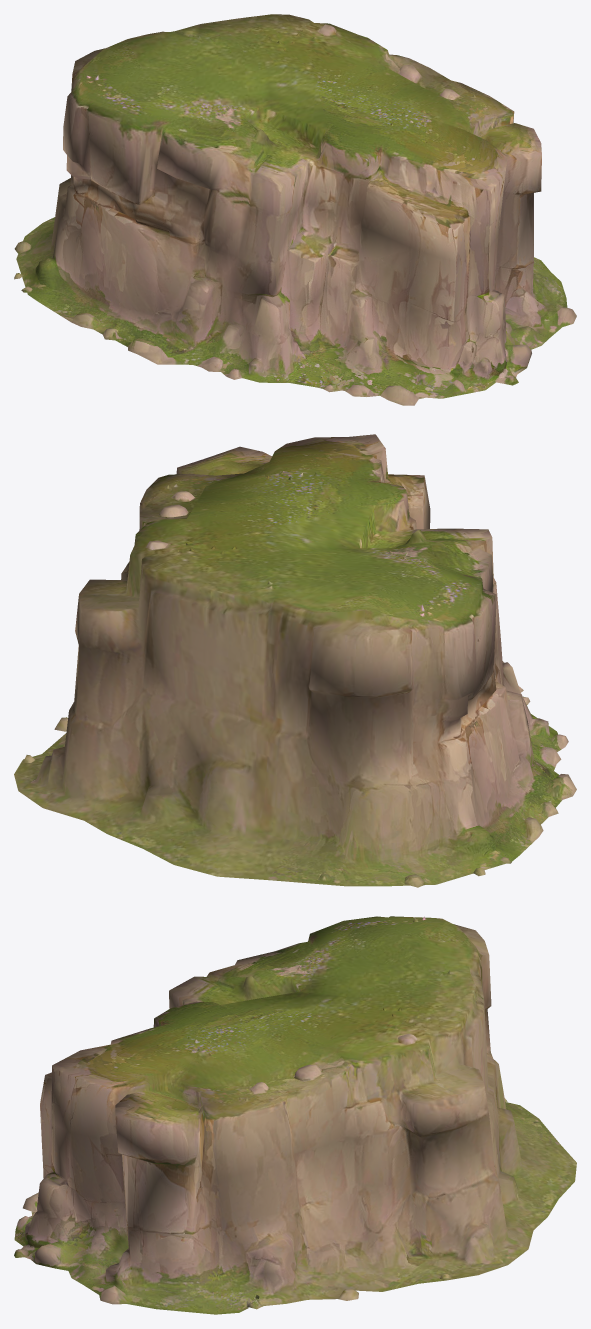
Rendered from Meseta_rocosa_pasto.glb.
3 renders of one model, top to bottom at view 1: azimuth 30°, elevation 25°; view 2: azimuth 150°, elevation 25°; view 3: azimuth 270°, elevation 25°, orthographic. The views are drawn at different scales.
Parts seen in each view (by area): view 1: tripo_node_6c2b1dcc-7138-4984-a9b2-f09bb34364c3; view 2: tripo_node_6c2b1dcc-7138-4984-a9b2-f09bb34364c3; view 3: tripo_node_6c2b1dcc-7138-4984-a9b2-f09bb34364c3.
Part boxes in pixels (x1,y1,x2,y2): tripo_node_6c2b1dcc-7138-4984-a9b2-f09bb34364c3: [14, 14, 576, 405]; tripo_node_6c2b1dcc-7138-4984-a9b2-f09bb34364c3: [14, 434, 576, 887]; tripo_node_6c2b1dcc-7138-4984-a9b2-f09bb34364c3: [14, 916, 576, 1314].
Size of the model in its own units: 0.9146 by 0.4546 by 0.9995.
1 material, 1 textured.
